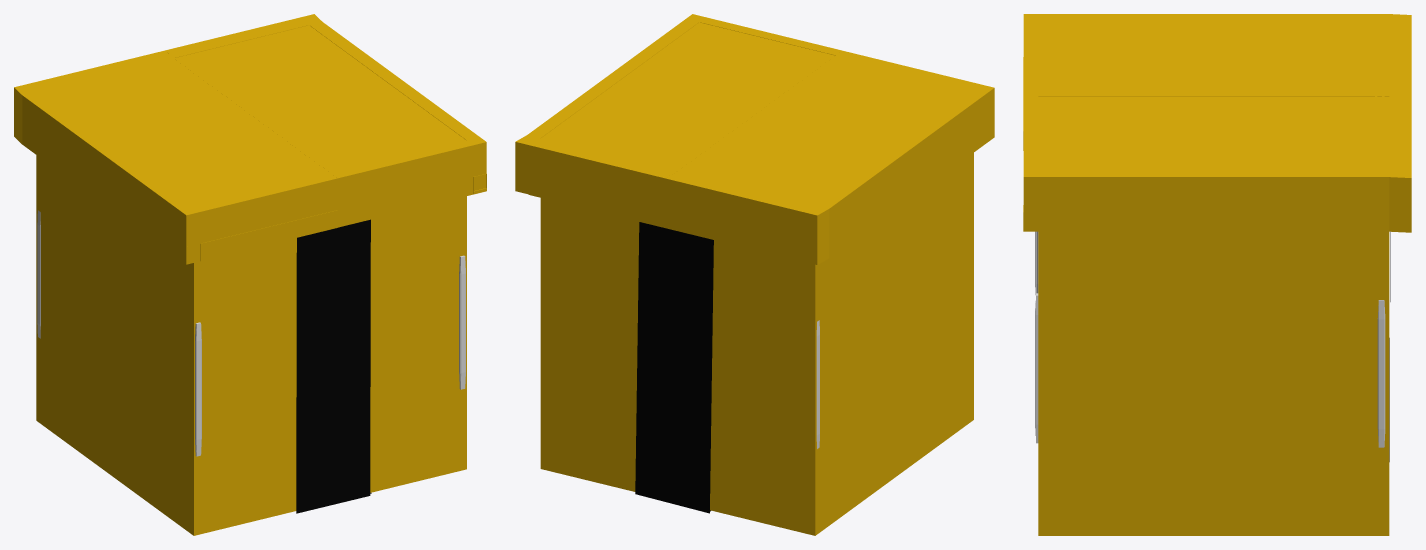
The model's file is rgbpackage.fbx.
The picture shows the model from 3 angles, left to right: view 1: azimuth 30°, elevation 25°; view 2: azimuth 150°, elevation 25°; view 3: azimuth 270°, elevation 25°; orthographic projection. The views are drawn at different scales.
Parts seen in each view (by area): view 1: Plane.003, Cube.003, Cube.002; view 2: Plane.003; view 3: Plane.003, Cube.002, Cube.003.
Part boxes in pixels (bbox=[...]): Plane.003: bbox=[14, 14, 486, 535]; Cube.003: bbox=[37, 210, 465, 389]; Cube.002: bbox=[195, 322, 201, 456]; Plane.003: bbox=[515, 14, 994, 535]; Plane.003: bbox=[1023, 14, 1411, 535]; Cube.002: bbox=[1035, 231, 1385, 447]; Cube.003: bbox=[1035, 293, 1038, 443].
Size of the model in its own units: 221 by 232 by 221.
